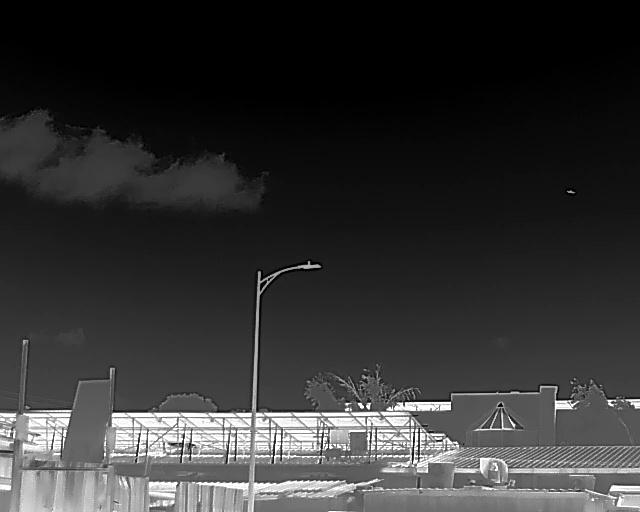fpv-drone: (565, 189, 577, 195)
